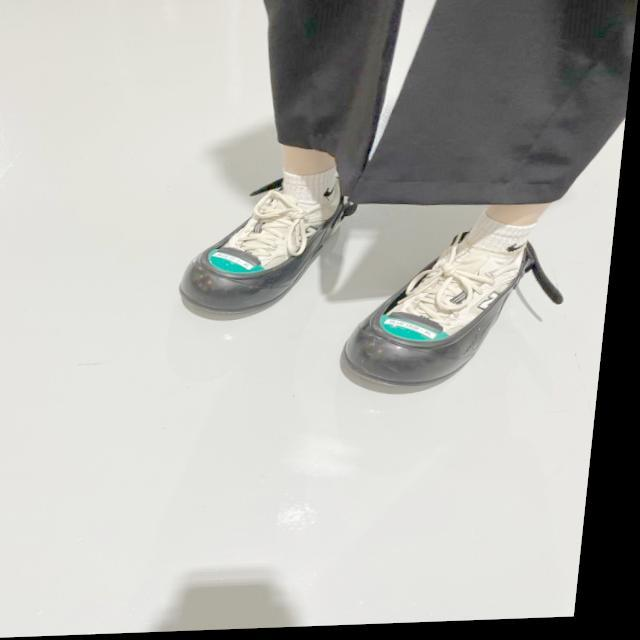shoes: (319, 239, 550, 402), (169, 183, 347, 324)
